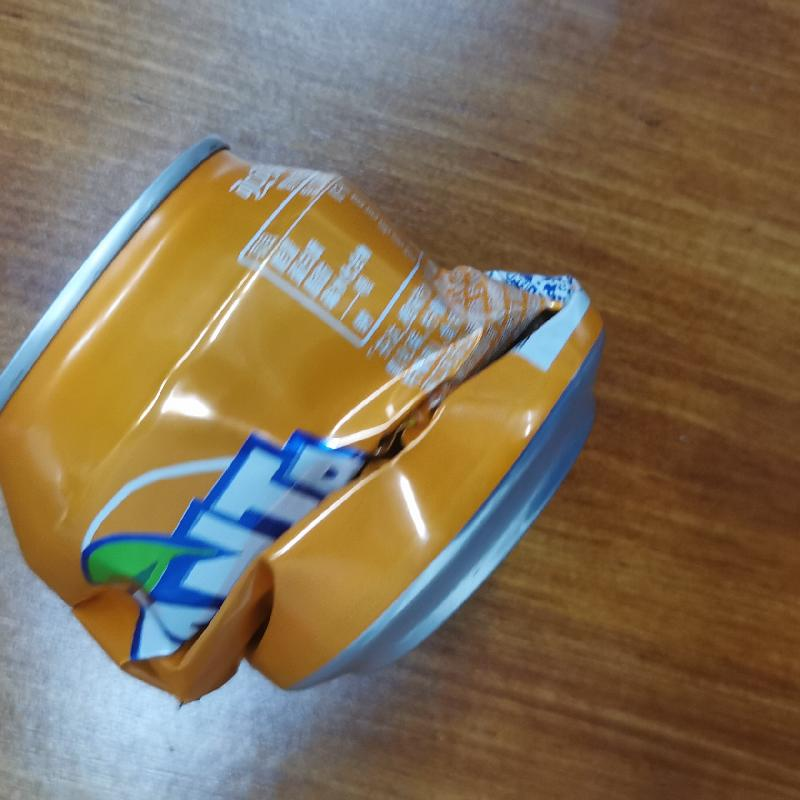cans: (9, 131, 608, 710)
